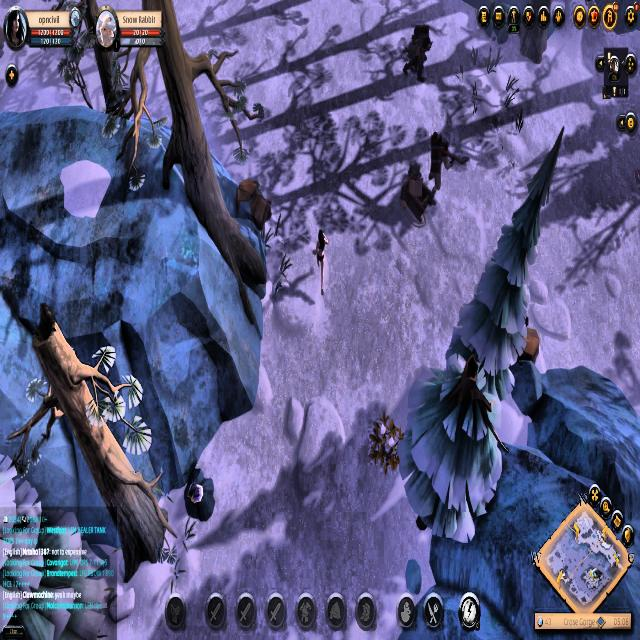copper_ore: (180, 455, 217, 526)
cotton: (368, 417, 407, 477)
mob: (426, 129, 476, 199), (404, 19, 436, 86)
